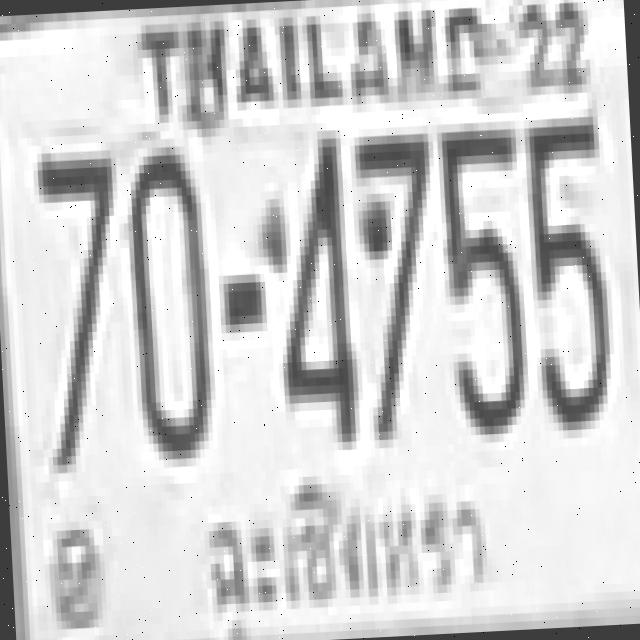0: (121, 142, 212, 457)
4: (266, 130, 356, 445)
5: (519, 109, 609, 424), (437, 121, 526, 428)
7: (32, 142, 122, 466), (352, 125, 441, 432)
Chachoengsao: (196, 460, 504, 628)
